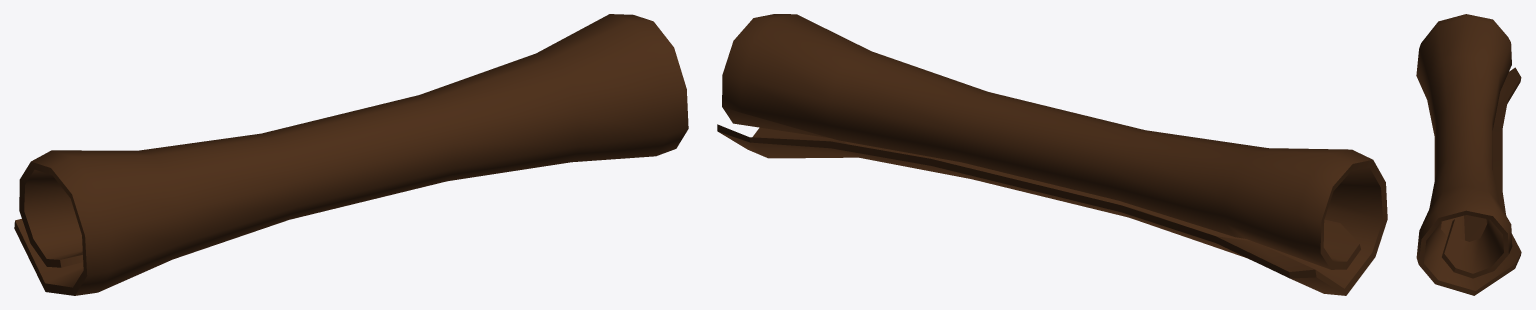
Rendered from Mappc_unwraped.FBX.
The picture shows the model from 3 angles, left to right: view 1: azimuth 30°, elevation 25°; view 2: azimuth 150°, elevation 25°; view 3: azimuth 270°, elevation 25°; orthographic projection. The views are drawn at different scales.
Visible parts, largest first — view 1: Plane066; view 2: Plane066; view 3: Plane066.
Part boxes in pixels (box(x1,y1,x2,y2)): Plane066: box(14, 14, 688, 295); Plane066: box(717, 14, 1387, 295); Plane066: box(1416, 14, 1521, 295).
Size of the model in its own units: 70.34 by 15.19 by 15.92.
